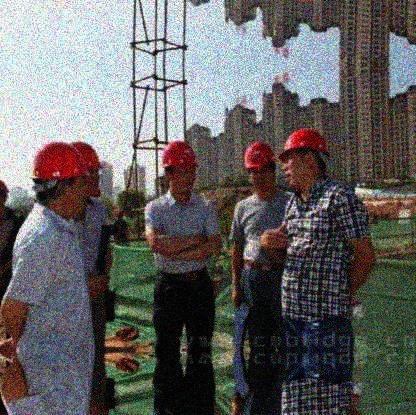helmet: (31, 141, 90, 217), (277, 127, 331, 194), (161, 139, 198, 194), (72, 139, 104, 199), (243, 142, 277, 196), (1, 179, 8, 210), (116, 209, 123, 220)
